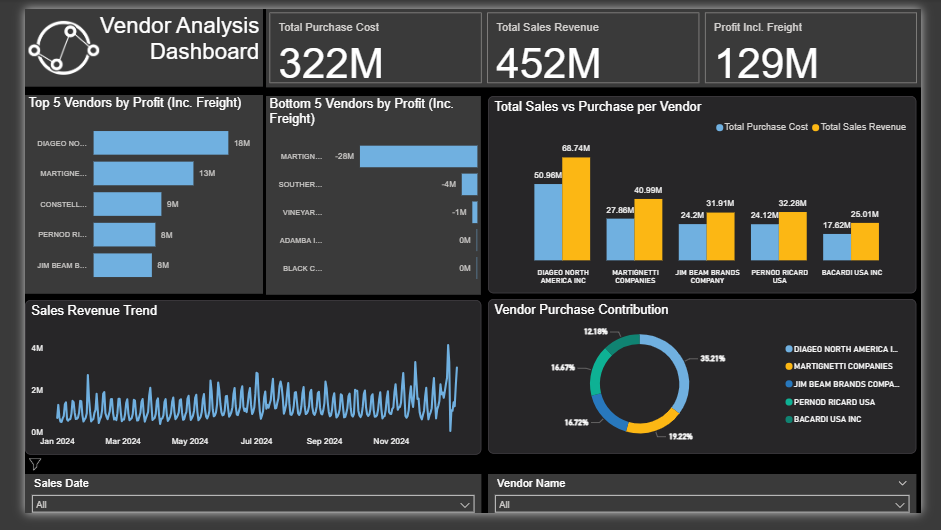

The page's visual inventory and layout, read from the dashboard file:
{"tool":"powerbi","page":{"name":"Page 1","canvas":[1280,720],"ordinal":0},"visuals":[{"type":"donutChart","title":"Vendor Purchase Contribution","fields":{"Category":["vendor_invoice_cleaned.vendorname"],"Y":["vendor_invoice_cleaned.PurchaseContributionPct"]},"box":[661.3,414.8,612.2,221.3],"z":0},{"type":"clusteredColumnChart","title":"Total Sales vs Purchase per Vendor","fields":{"Category":["sales_cleaned.vendorname"],"Y":["vendor_invoice_cleaned.TotalPurchaseCost","sales_cleaned.TotalSalesRevenue"]},"box":[661.6,123.7,611.6,282.1],"z":1000},{"type":"lineChart","title":"Sales Revenue Trend","fields":{"Category":["sales_cleaned.salesdate"],"Y":["sales_cleaned.TotalSalesRevenue"]},"box":[0,415.5,652,221],"z":2000},{"type":"clusteredBarChart","title":"Top 5 Vendors by Profit (Inc. Freight)","fields":{"Category":["sales_cleaned.vendorname"],"Y":["sales_cleaned.ProfitInclFreight"]},"box":[0,122.5,340,283.8],"z":3000},{"type":"clusteredBarChart","title":"Bottom 5 Vendors by Profit (Inc. Freight)","fields":{"Category":["sales_cleaned.vendorname"],"Y":["sales_cleaned.ProfitInclFreight"]},"box":[345,124,307,283.5],"z":4000},{"type":"cardVisual","fields":{"Data":["vendor_invoice_cleaned.TotalPurchaseCost","sales_cleaned.TotalSalesRevenue","sales_cleaned.ProfitInclFreight"]},"box":[344.4,0,935.6,111.8],"z":5000},{"type":"textbox","box":[0,0,340,111.1],"z":6000},{"type":"slicer","fields":{"Values":["sales_cleaned.salesdate"]},"box":[0,663.8,651.5,56.2],"z":7000},{"type":"slicer","fields":{"Values":["vendor_invoice_cleaned.vendorname"]},"box":[661.5,663.8,611.5,56.2],"z":8000},{"type":"image","box":[0,0,111.1,111.1],"z":9000},{"type":"image","box":[0,636.8,29.2,27.2],"z":10000}]}

Visuals, with their boxes in screenshot pixels (x1, y1, x2, y2), scaled from the page's 1280x720 canvas onto the 941x530 screenshot:
"Vendor Purchase Contribution" donutChart: Rect(486, 305, 936, 468)
"Total Sales vs Purchase per Vendor" clusteredColumnChart: Rect(486, 91, 936, 299)
"Sales Revenue Trend" lineChart: Rect(0, 306, 479, 469)
"Top 5 Vendors by Profit (Inc. Freight)" clusteredBarChart: Rect(0, 90, 250, 299)
"Bottom 5 Vendors by Profit (Inc. Freight)" clusteredBarChart: Rect(254, 91, 479, 300)
cardVisual - vendor_invoice_cleaned.TotalPurchaseCost x sales_cleaned.TotalSalesRevenue: Rect(253, 0, 940, 82)
textbox: Rect(0, 0, 250, 82)
slicer - sales_cleaned.salesdate: Rect(0, 489, 479, 529)
slicer - vendor_invoice_cleaned.vendorname: Rect(486, 489, 936, 529)
image: Rect(0, 0, 82, 82)
image: Rect(0, 469, 21, 489)
